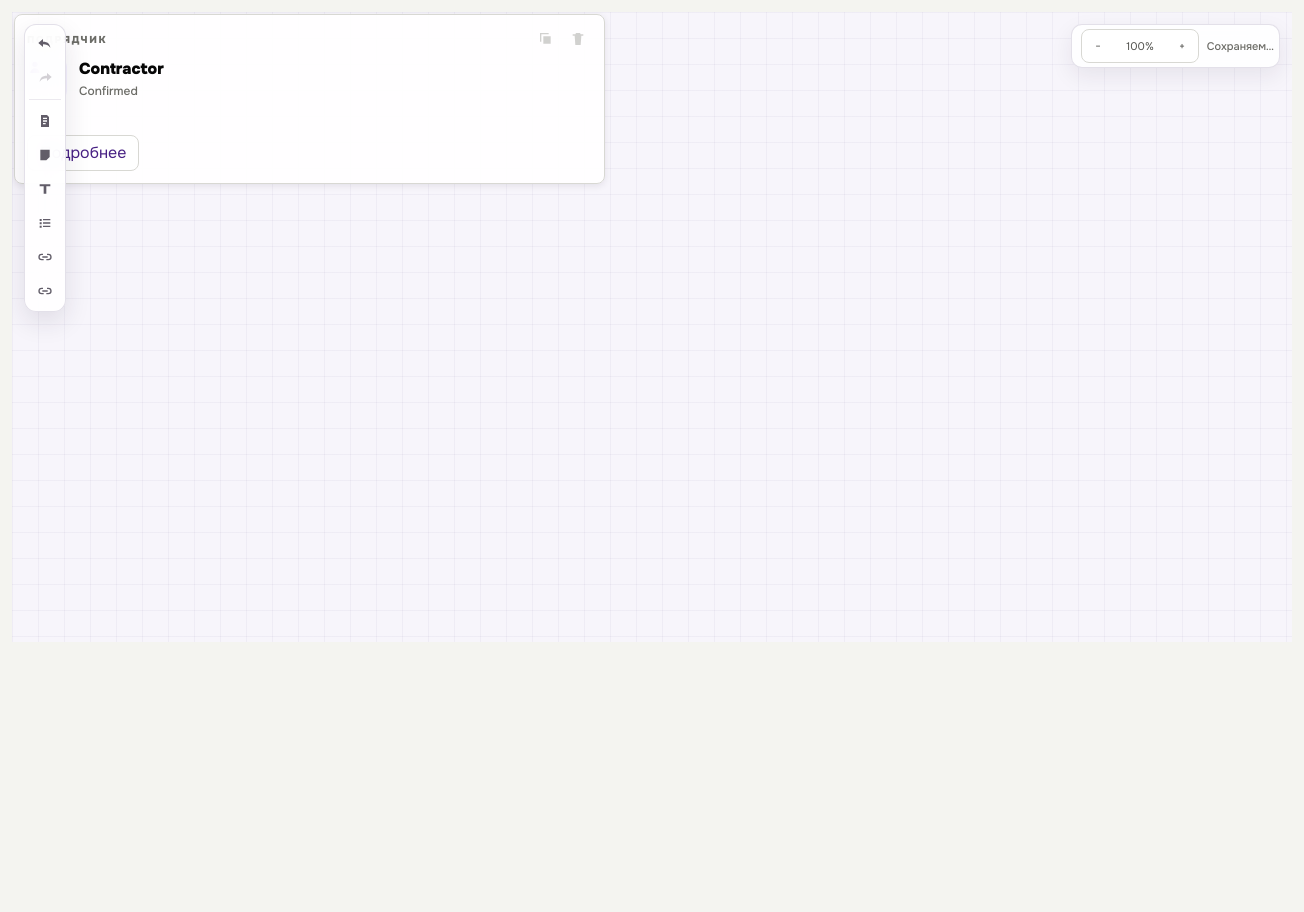
Test: free project board lifecycle › removes an invalid linked write but still saves the other pending changes
Click the button named "Заметка": (45,121) x1=29 y1=105 x2=61 y2=137
Wait 180 ms
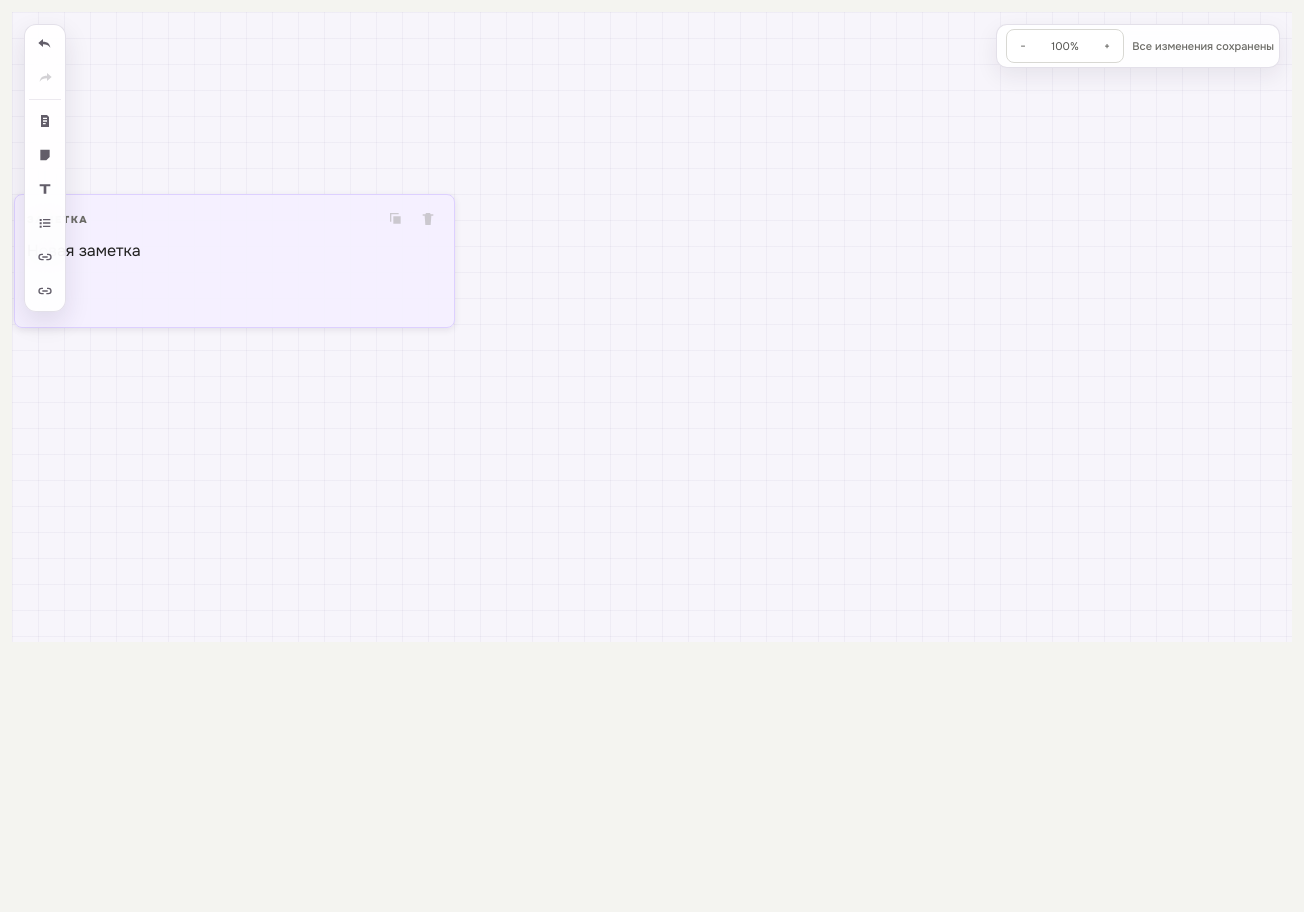
Now the text box named "Заметка" holds "Новая заметка", box x1=27 y1=239 x2=442 y2=319
Now the text "Все изменения сохранены" is shown, box x1=1132 y1=38 x2=1274 y2=54
